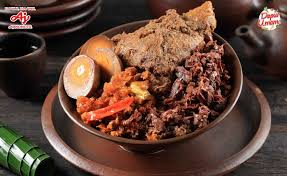Gudeg: (63, 7, 234, 142)
